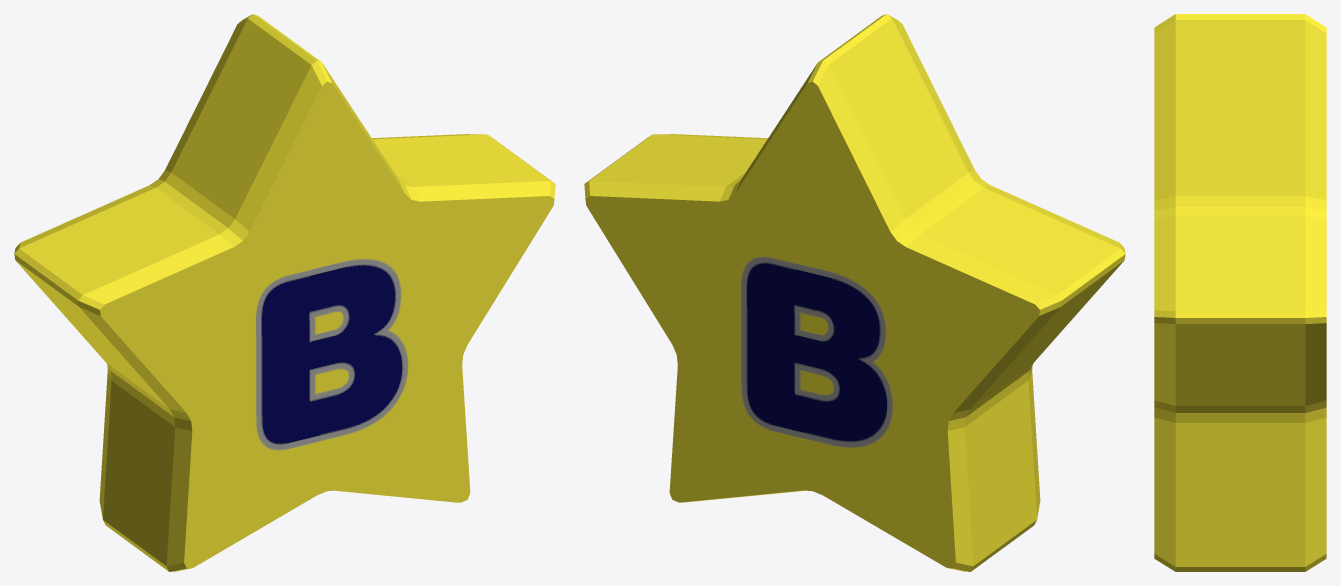
File: bonus_150423.fbx
The picture shows the model from 3 angles, left to right: view 1: azimuth 30°, elevation 25°; view 2: azimuth 150°, elevation 25°; view 3: azimuth 270°, elevation 25°; orthographic projection.
Parts seen in each view (by area): view 1: bonus; view 2: bonus; view 3: bonus.
Boxes of the visible parts, bbox=[...] form: bonus: bbox=[14, 14, 555, 571]; bonus: bbox=[584, 14, 1125, 571]; bonus: bbox=[1154, 14, 1326, 571].
Size of the model in its own units: 1.9 by 1.82 by 0.5838.
1 material, 1 textured.
